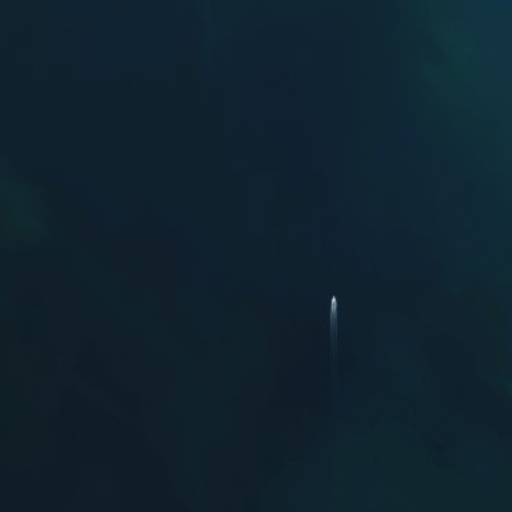ship: (328, 293, 338, 307)
